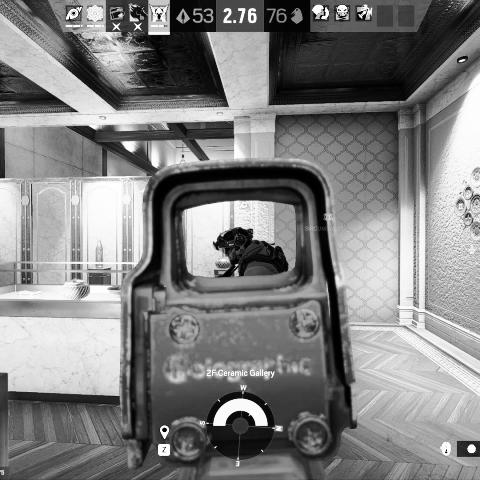Character: (214, 224, 290, 279)
Friend_label: (304, 211, 352, 233), (229, 199, 260, 221)
Head: (215, 226, 255, 265)
